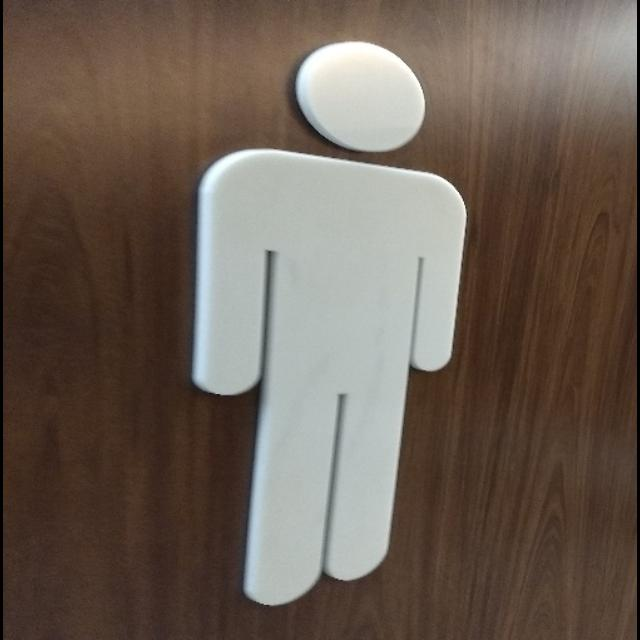mens_restroom: (193, 45, 466, 607)
